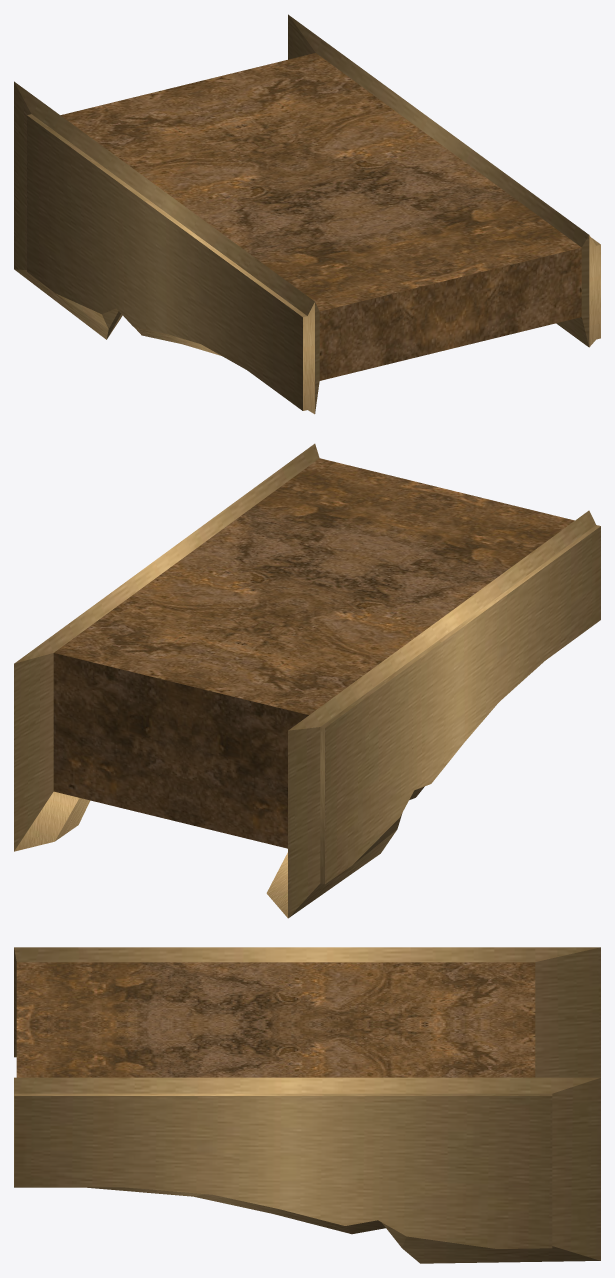
The model's file is hubroof.gltf.
3 views of the same model, one above another, from view 1: azimuth 30°, elevation 25°; view 2: azimuth 150°, elevation 25°; view 3: azimuth 270°, elevation 25° (orthographic). The views are drawn at different scales.
Visible parts, largest first — view 1: Cube; view 2: Cube; view 3: Cube.
Part boxes in pixels (<box>): Cube: <box>14,14,600,414</box>; Cube: <box>14,443,600,918</box>; Cube: <box>14,947,600,1263</box>.
Size of the model in its own units: 9.07 by 5.55 by 15.86.
Materials: 1 (1 with a texture image).
